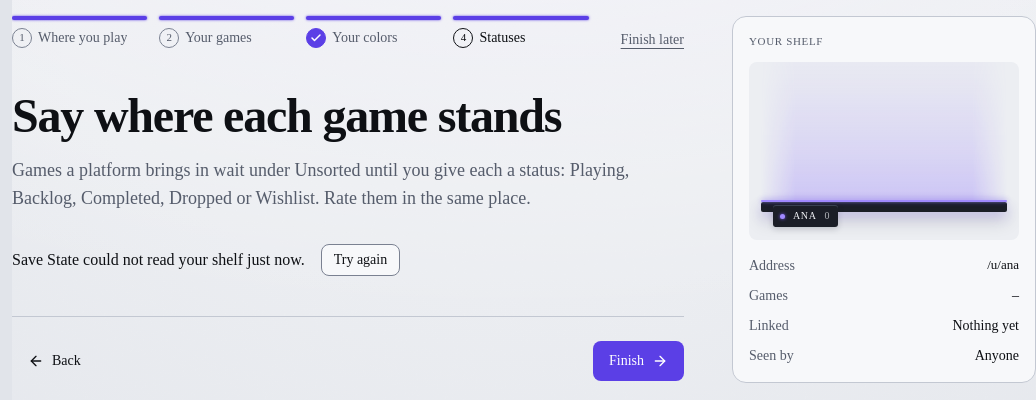
Test: SetUpShelf › says so when the tally cannot be read, and reads it again on Try again
expect the message shows "Save State could not read your shelf just now.": met, box [12, 251, 305, 268]
Click the button "Try again": {"x": 360, "y": 260} [321, 244, 400, 276]
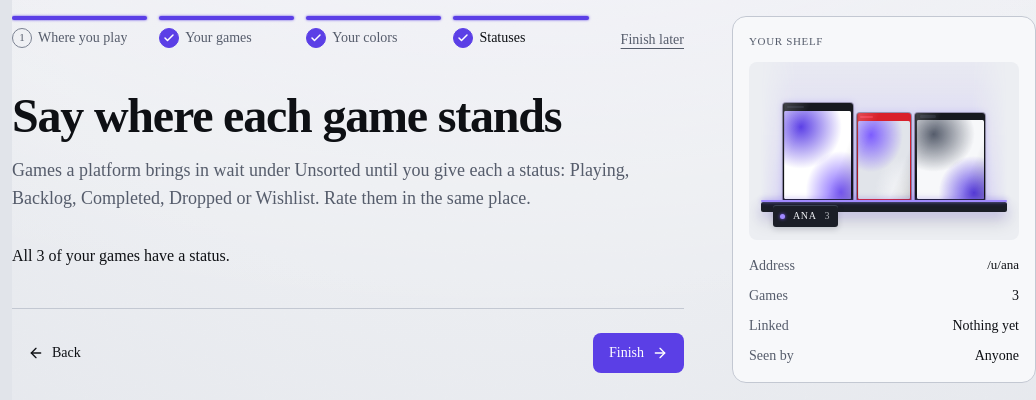
expect the message "Save State could not read your shelf just now. Try again" is gone: met
expect the text "All 3 of your games have a status." is shown: met, box [12, 247, 230, 264]
